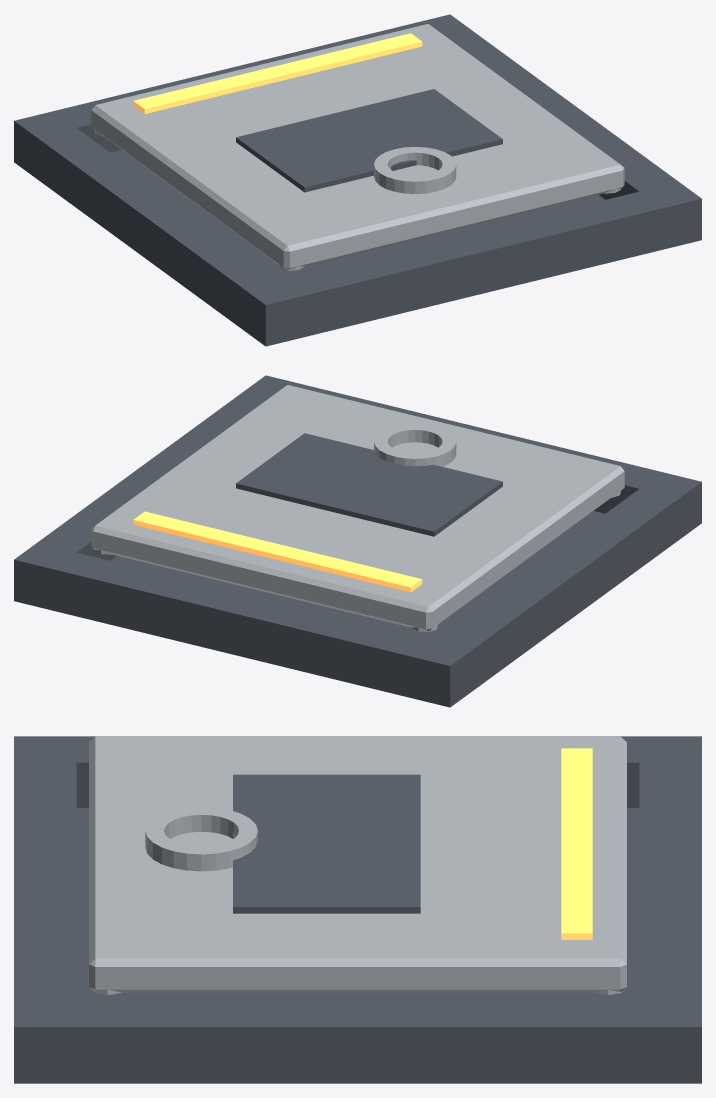
The model's file is spaceship-deck-kit-maintenance-hatch-fa0c0988__12578.glb.
3 views of the same model, one above another, from view 1: azimuth 30°, elevation 25°; view 2: azimuth 150°, elevation 25°; view 3: azimuth 270°, elevation 25° (orthographic). The views are drawn at different scales.
Visible parts, largest first — view 1: maintenance-hatch, hatch-lid/steel, hatch-lid/dark, hatch-lid/accent; view 2: maintenance-hatch, hatch-lid/steel, hatch-lid/dark, hatch-lid/accent; view 3: hatch-lid/steel, maintenance-hatch, hatch-lid/dark, hatch-lid/accent.
Part boxes in pixels (<box>): maintenance-hatch: <box>14,14,701,346</box>; hatch-lid/steel: <box>91,24,624,269</box>; hatch-lid/dark: <box>236,89,502,192</box>; hatch-lid/accent: <box>133,33,422,113</box>; maintenance-hatch: <box>14,375,701,707</box>; hatch-lid/steel: <box>91,385,624,630</box>; hatch-lid/dark: <box>236,433,502,536</box>; hatch-lid/accent: <box>133,511,422,592</box>; hatch-lid/steel: <box>89,736,626,992</box>; maintenance-hatch: <box>14,736,701,1083</box>; hatch-lid/dark: <box>233,774,420,913</box>; hatch-lid/accent: <box>561,748,592,939</box>.
Bounding box in the file's own units: 1.1 × 0.19 × 1.1.
